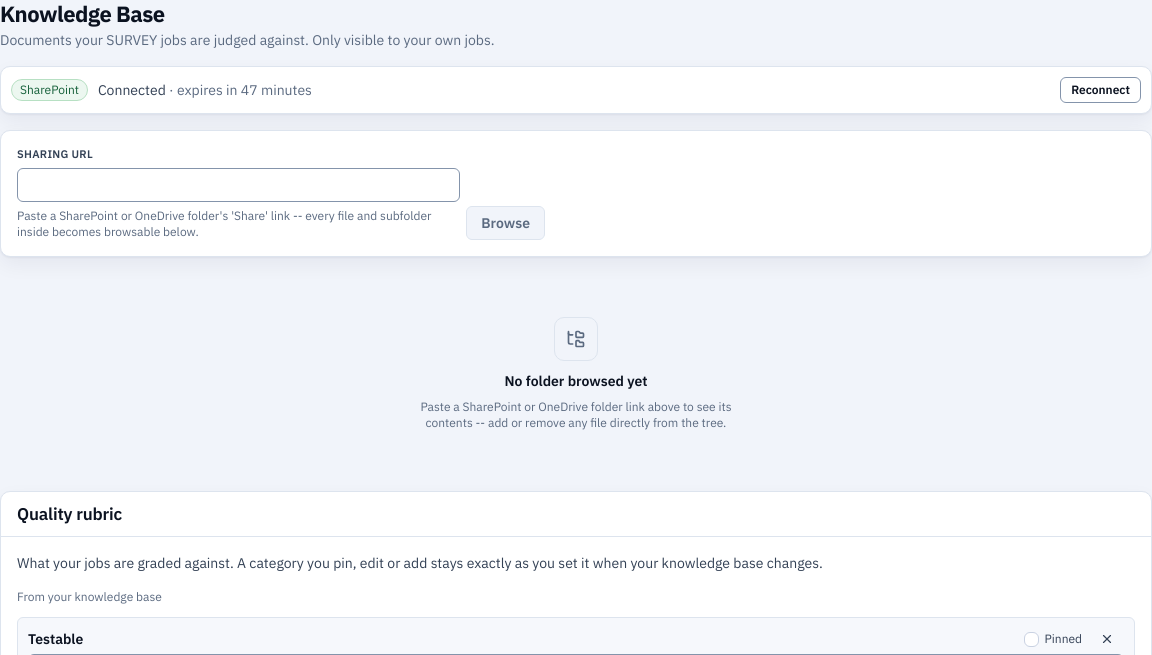
Test case: KnowledgeBase › browses a shared folder, showing files and subfolders in a tree
Type "https://share.example/folder" into the field labelled "Sharing URL".
click(239, 185); type("https://share.example/folder")  # box [17,168,460,202]
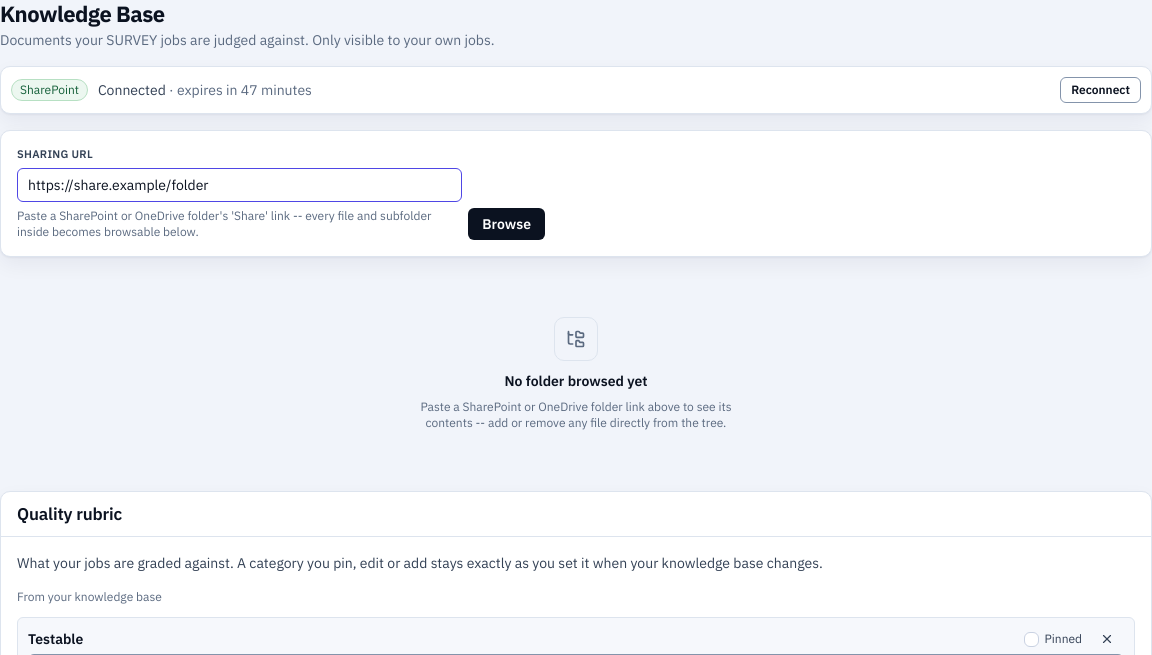
Click the button "Browse".
click(507, 224)  # box [468,208,545,240]
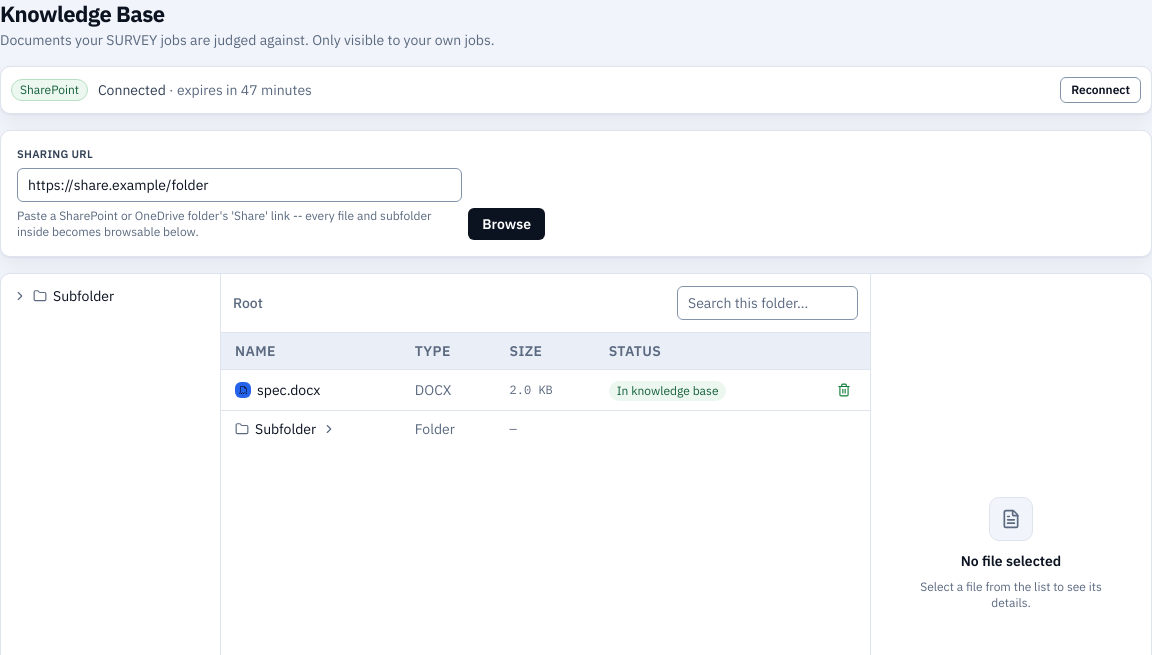
Check: the text "spec.docx" is shown, box [257,380,320,400]
Check: the 1st text "Subfolder" is shown, box [53,287,114,305]
